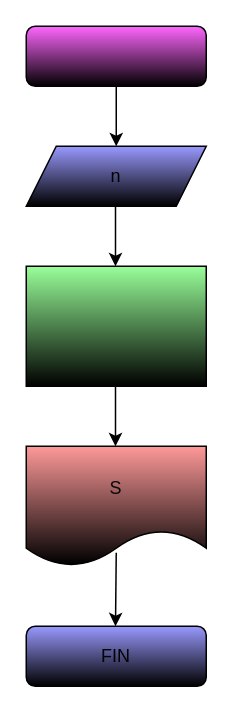
This 233x713 diagram has some shape labels left out. The box of each missing label's shape, as (x1, y1, x2, y2) in pixels:
INICIO: (25, 25, 206, 86)
S=(n(n+1))/2: (25, 265, 206, 386)
